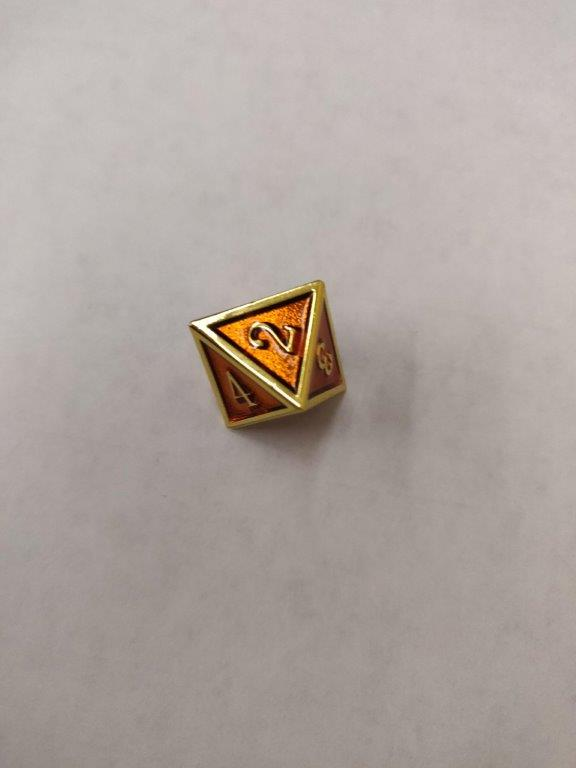d8-2: (189, 277, 351, 434)
